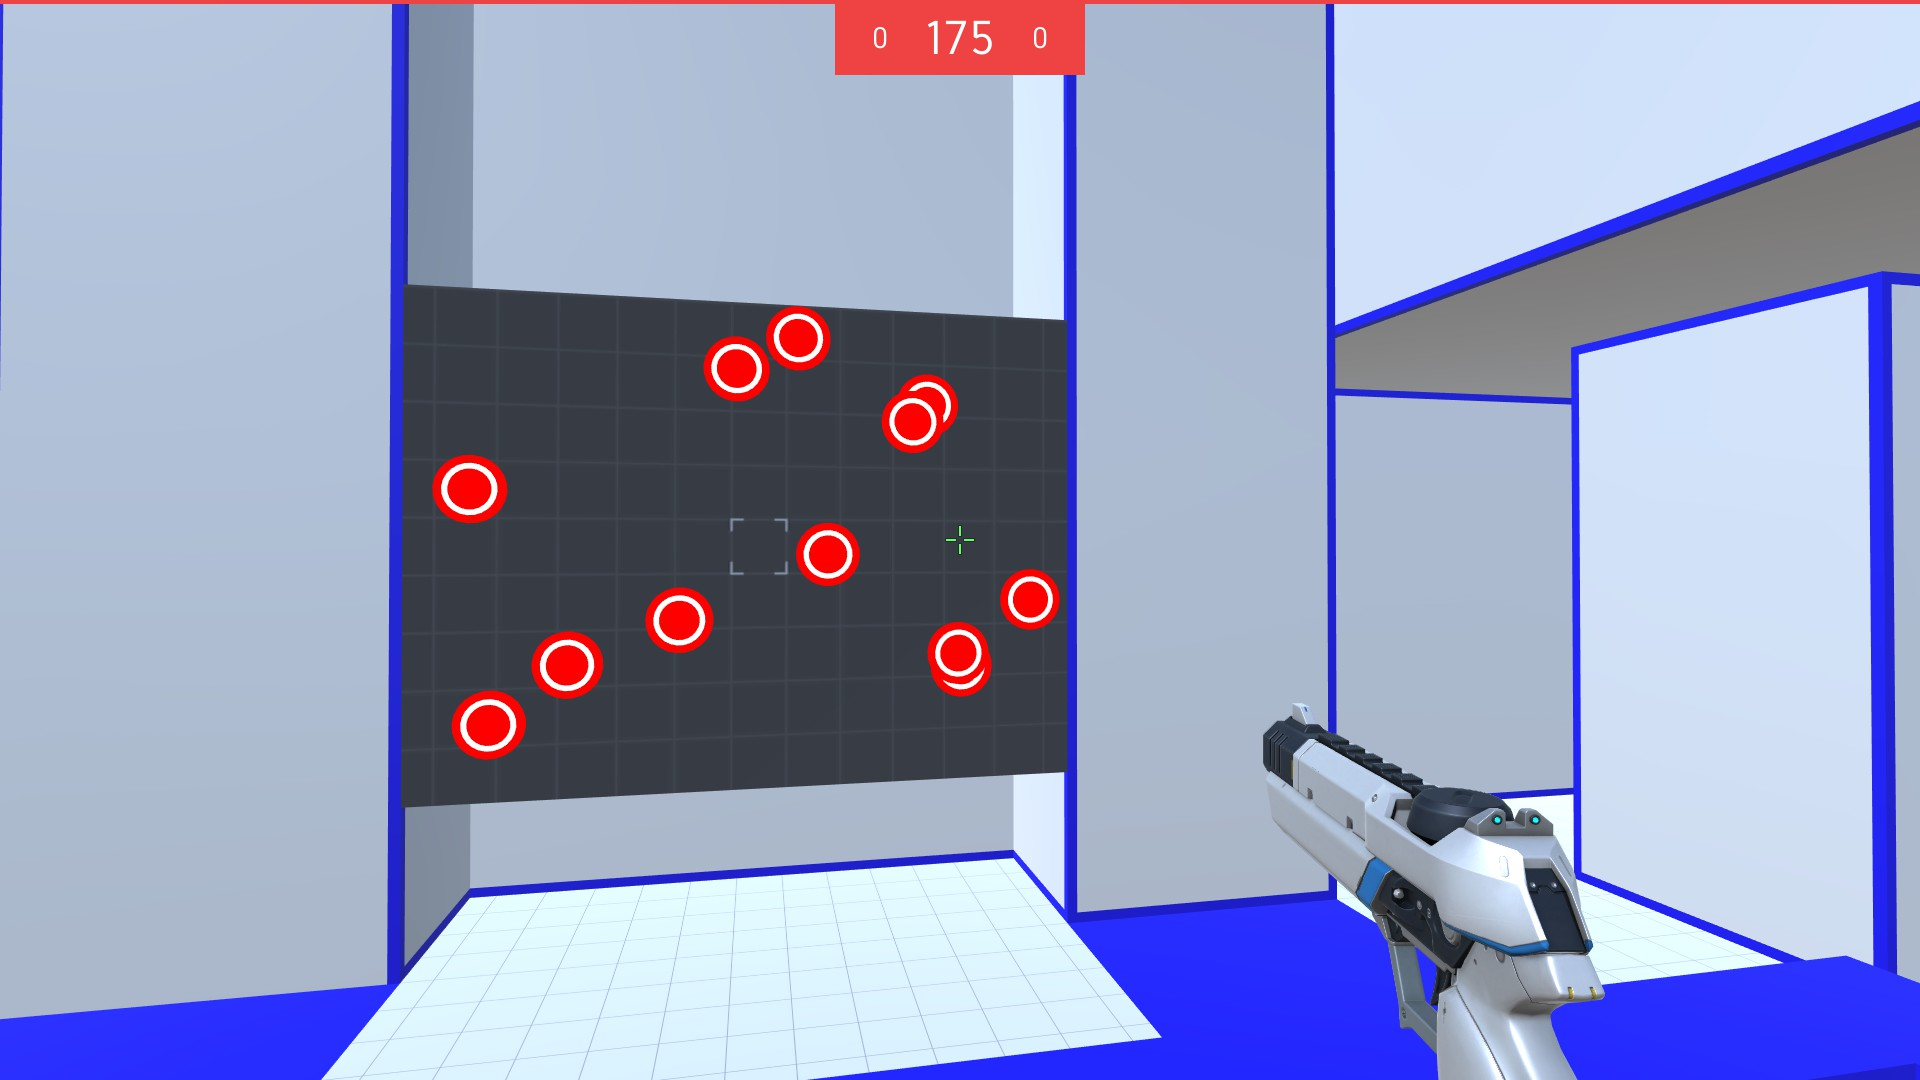target: (448, 688, 527, 762), (429, 454, 510, 524), (637, 584, 716, 655), (529, 628, 603, 699), (702, 335, 771, 404), (791, 522, 861, 585), (765, 305, 829, 371), (1000, 568, 1062, 630), (924, 620, 989, 679), (876, 394, 942, 452), (901, 373, 961, 430), (934, 669, 993, 696)
